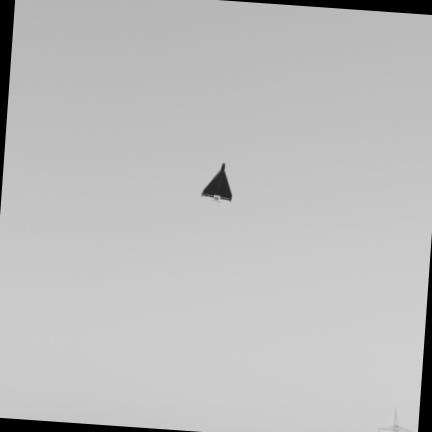Shahed: (202, 164, 232, 200)
